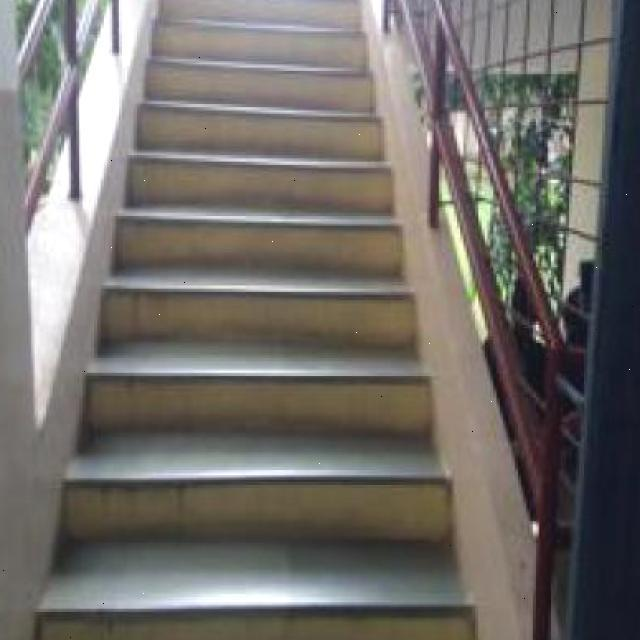stair: (41, 271, 470, 620)
